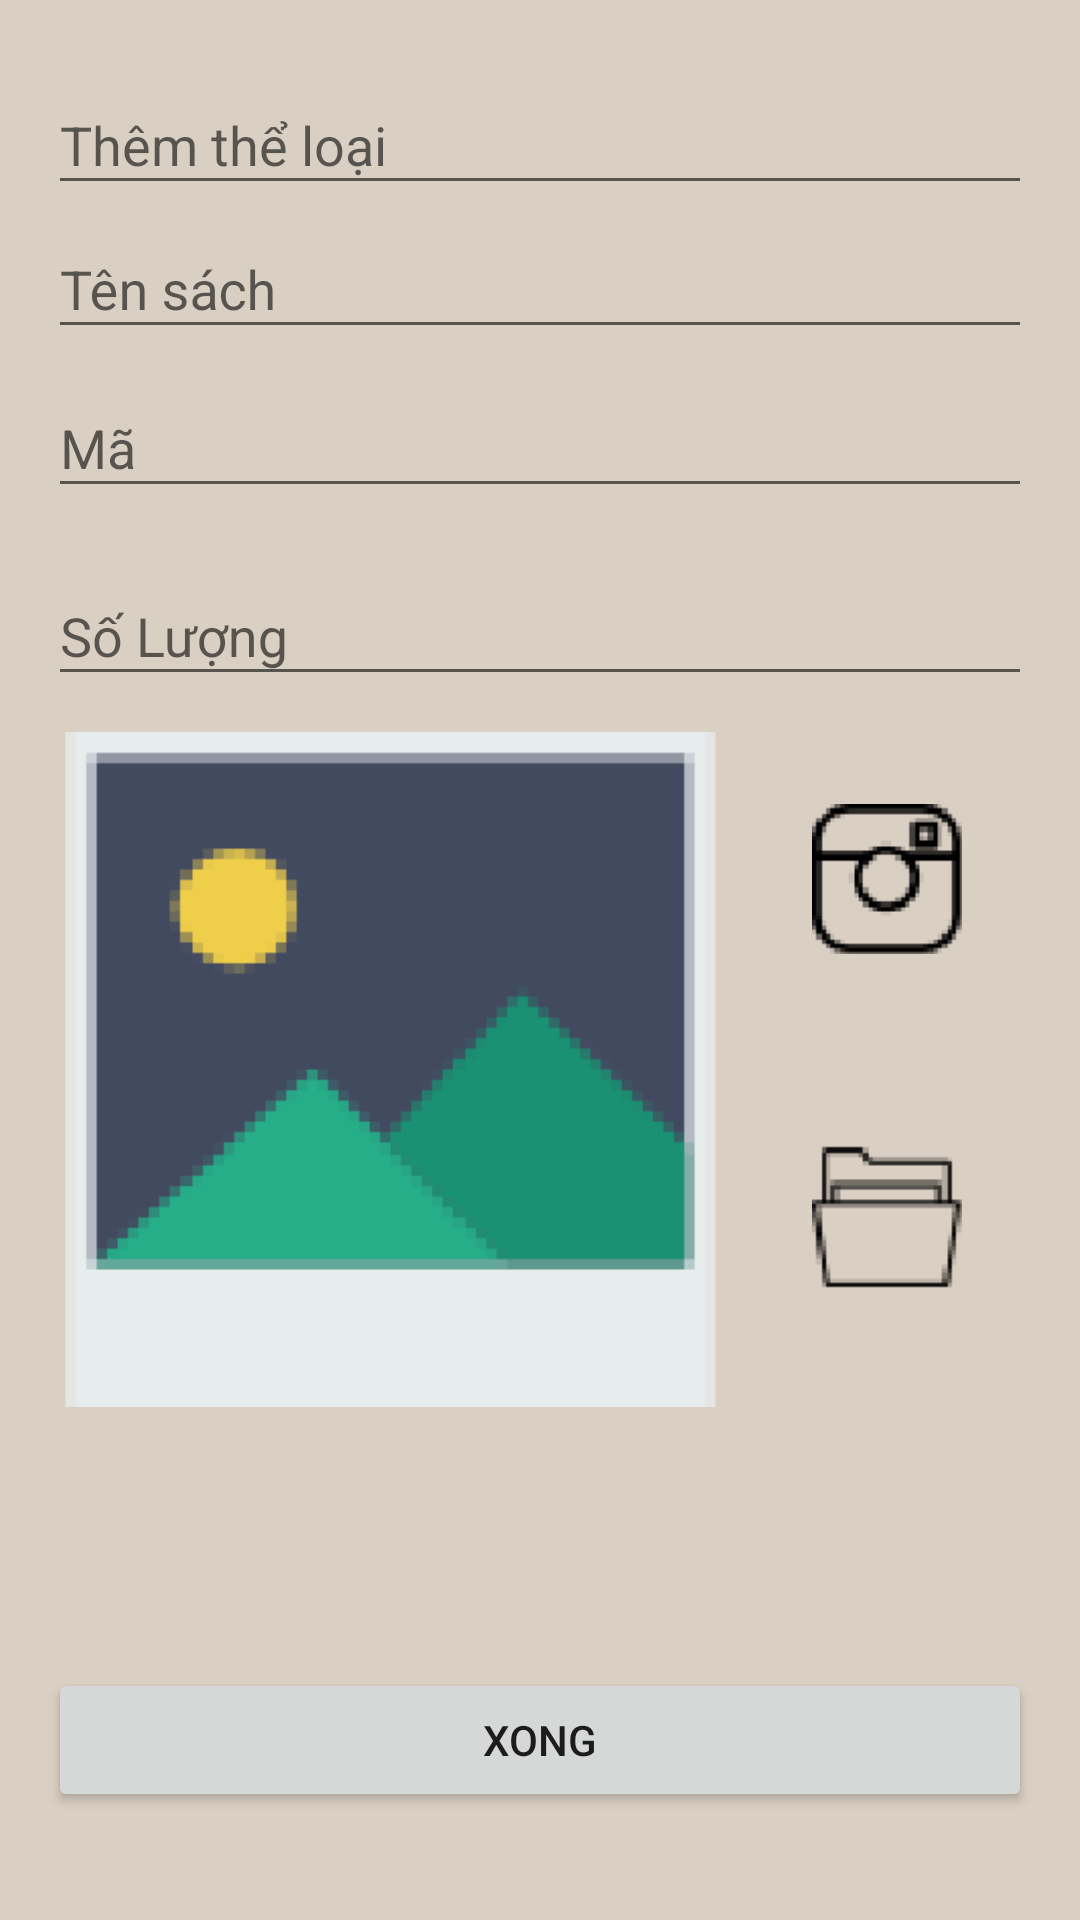

Locate icon controls on the screen. Image size 1080w x 1920h, boxes as detection(x1, y1, x2, y2).
folder: detection(812, 1146, 962, 1288)
